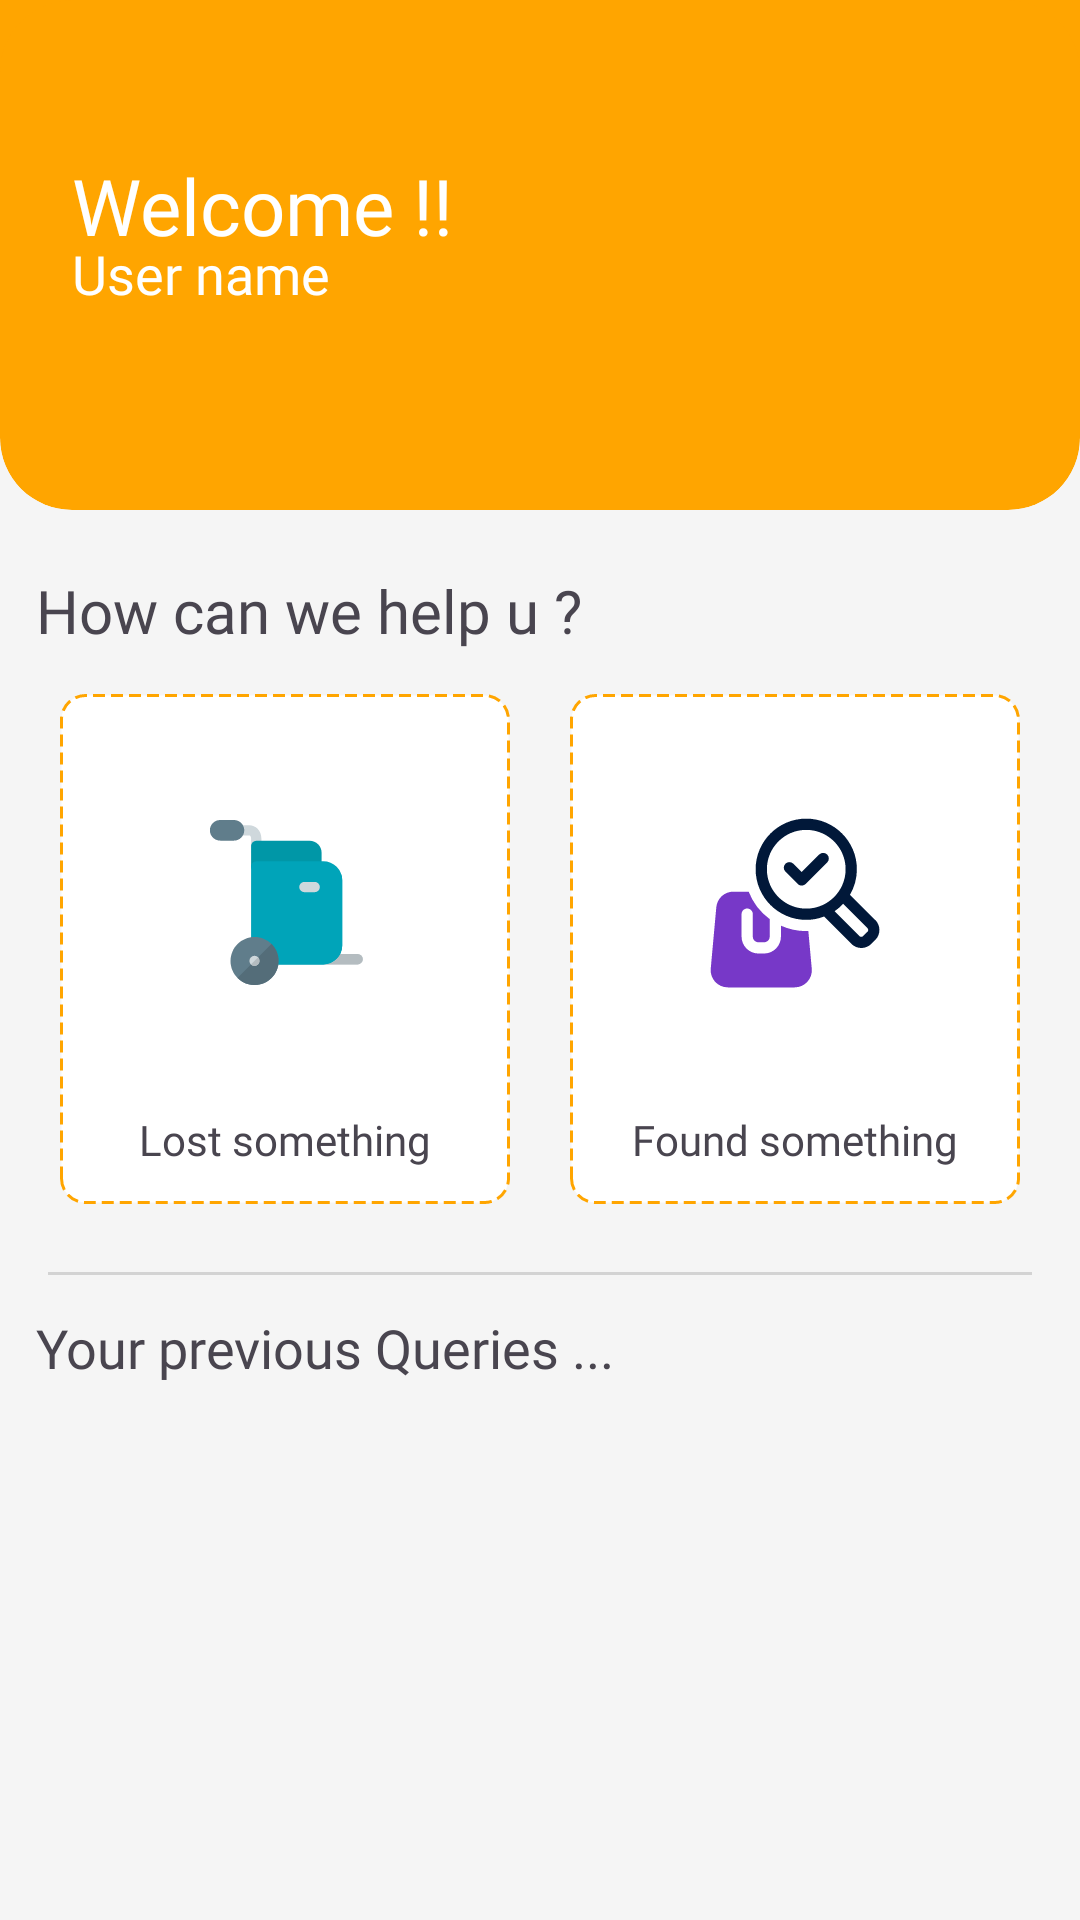

Named icons in this screenshot (1080 × 1920) and their centers, (x=x, y=y):
itemfound: (x=795, y=903)
luggage: (x=286, y=902)
